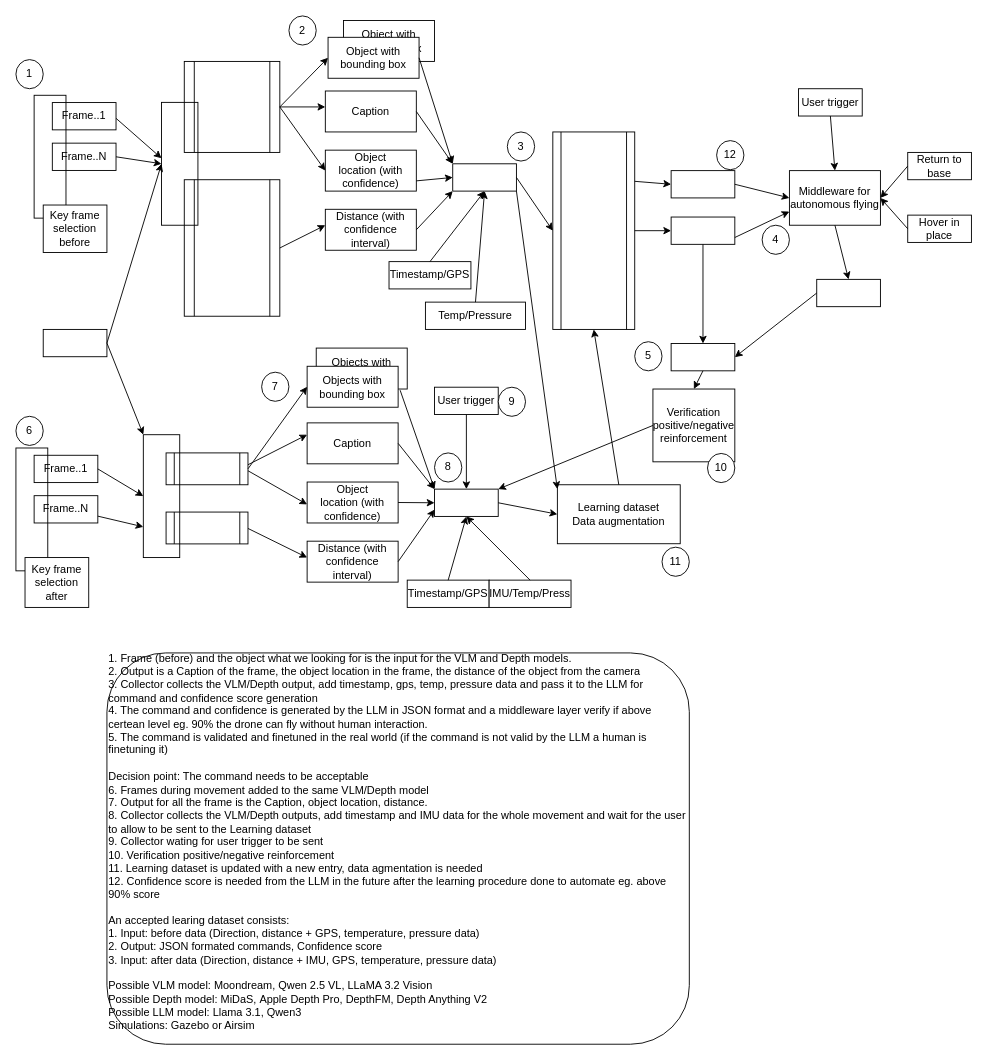
Image size: 987x1061. Some labels were removed from this diagram. The box of each missing label's shape, as (x1, y1, x2, y2) in pixels:
Collector after: (434, 488, 498, 516)
Collector before: (452, 163, 516, 191)
Confidence score: (670, 170, 735, 198)
Control command: (670, 216, 735, 244)
Depth MiDaS: (165, 511, 248, 544)
Depth model MiDaS Apple Depth Pro DepthFM Depth Anything V2: (183, 179, 280, 316)
Fly: (816, 278, 880, 307)
LLM model Llama 3.1 Qwen3: (552, 131, 635, 329)
Object: (42, 329, 107, 357)
Validate: (670, 343, 735, 371)
VLM: (165, 452, 248, 485)
VLM model Moondream Qwen 2.5 VL LLaMA 3.2 Vision: (183, 61, 280, 152)
